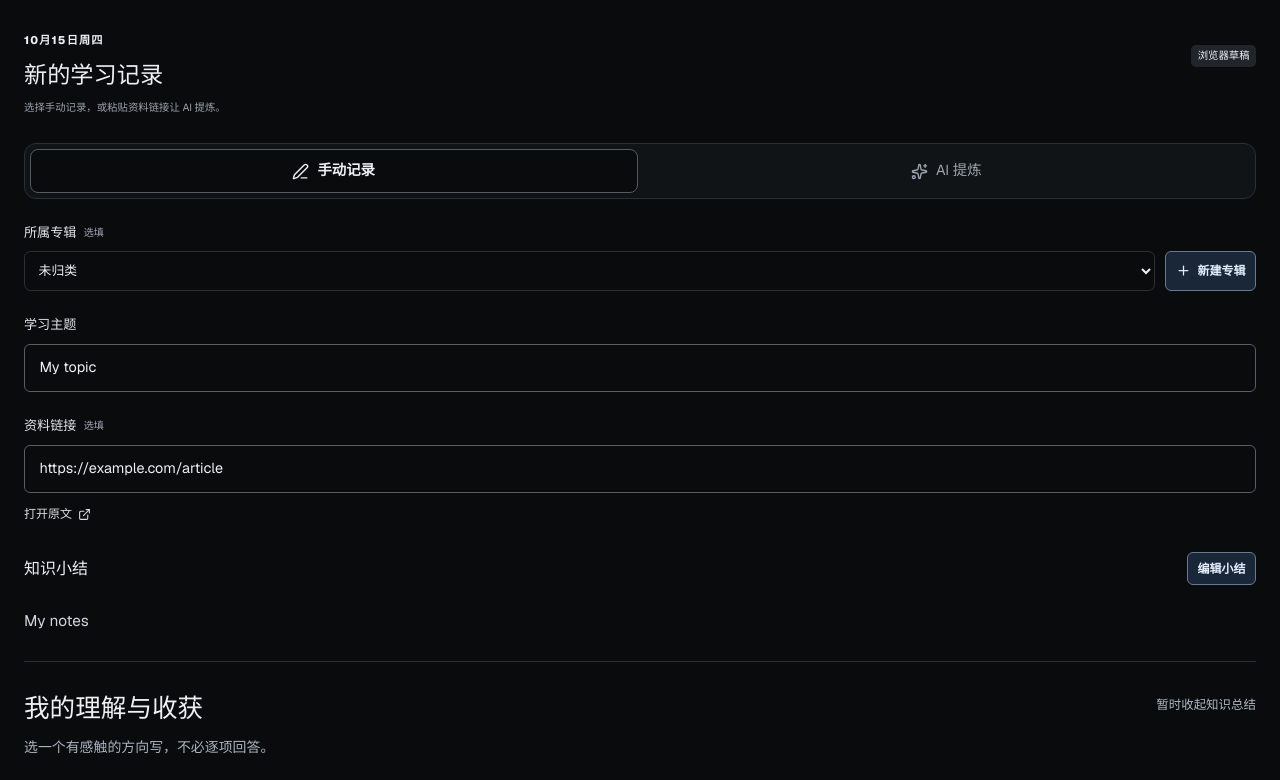
Test case: switches one new draft between manual and AI without saving or losing its contents
Click the button "AI 提炼".
click(946, 171)  # box 642,149 -> 1250,193
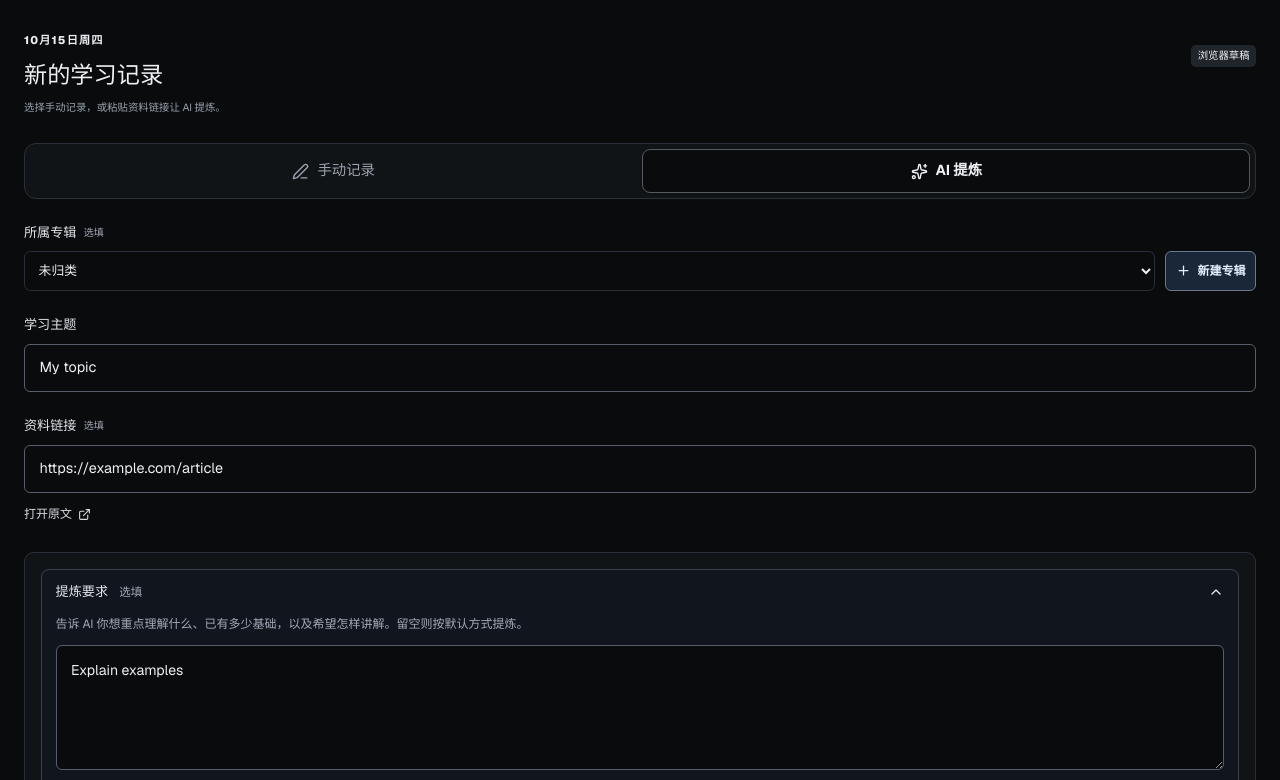
Result: the text box named "提炼要求" holds "Explain examples" at 56,645 -> 1224,770
Click the button "手动记录".
click(334, 171)  # box 30,149 -> 638,193
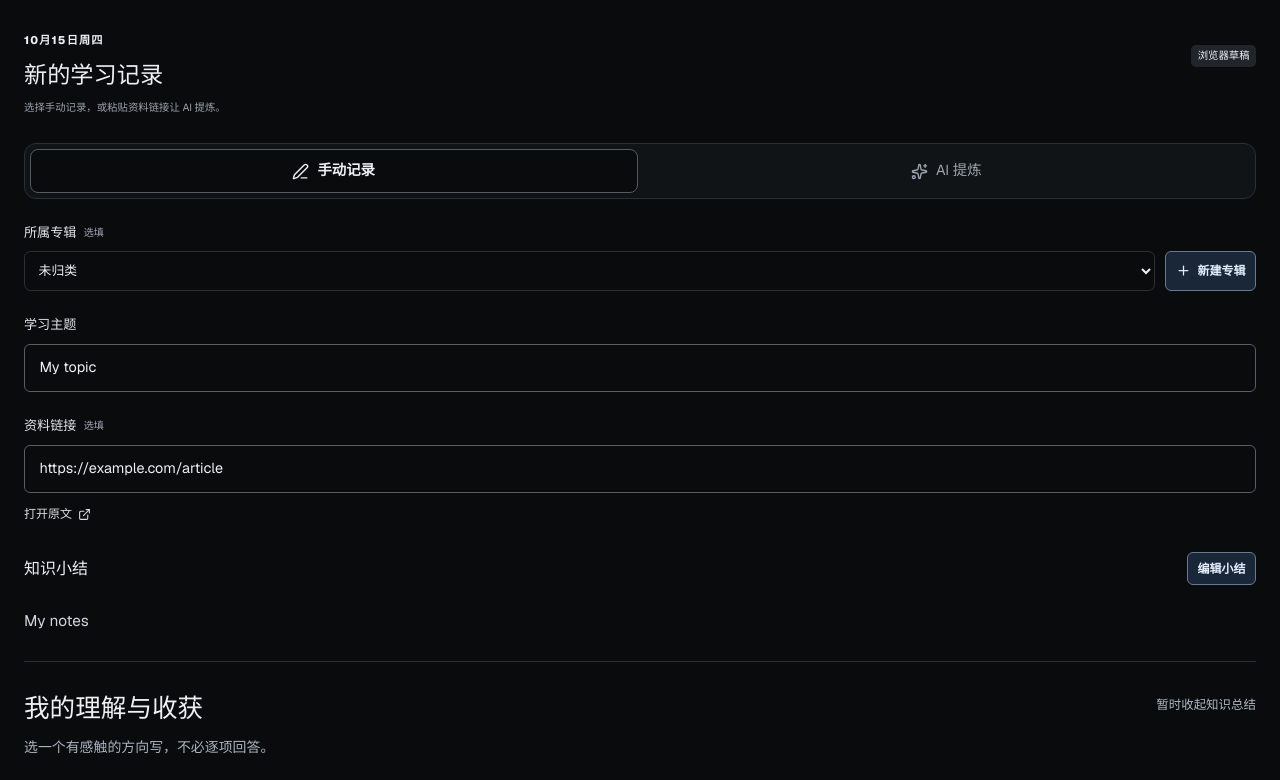
Click the button "AI 提炼".
click(946, 171)  # box 642,149 -> 1250,193
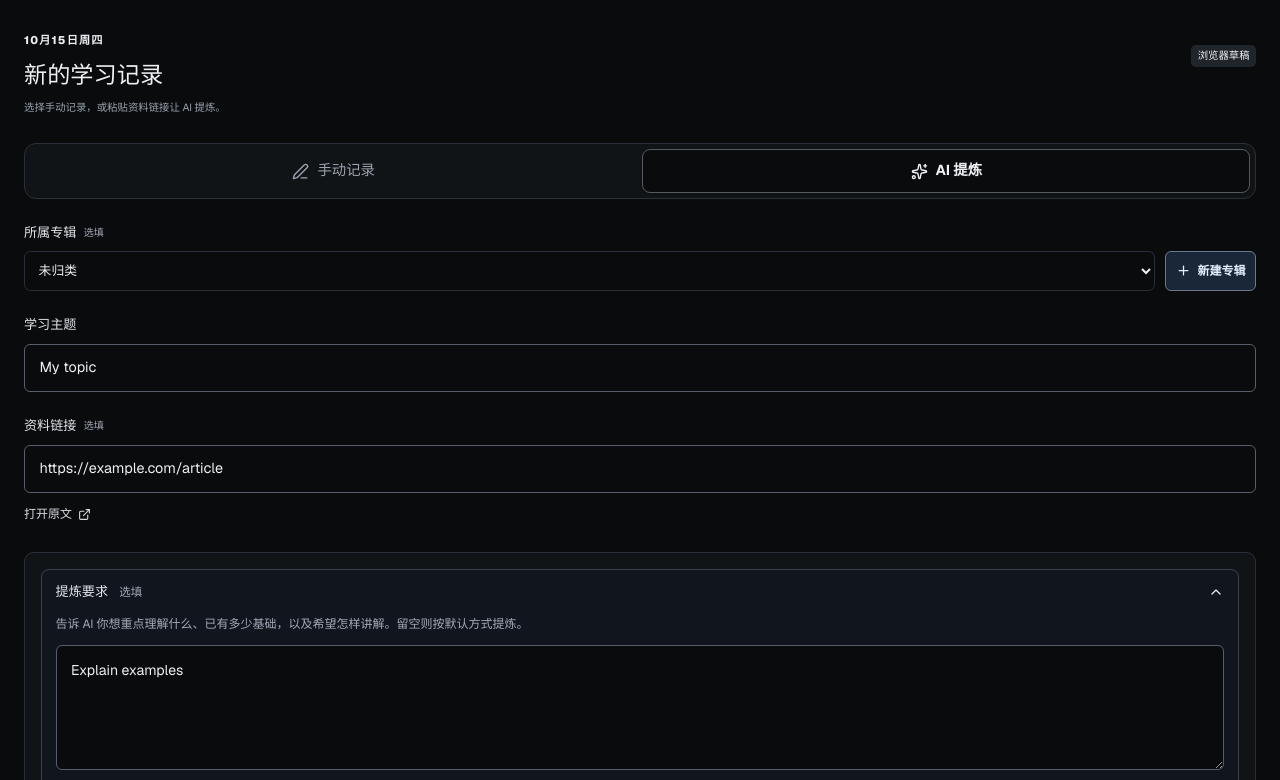
Result: the text box named "提炼要求" holds "Explain examples" at 56,645 -> 1224,770
